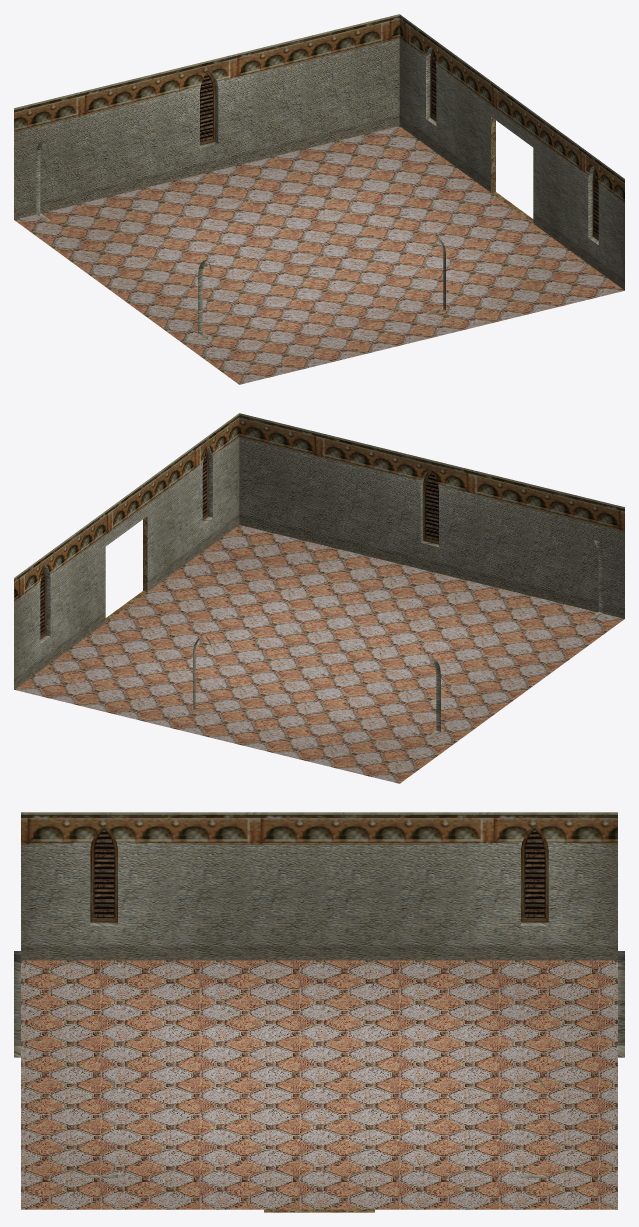
The model's file is Mission8_VillageBuilding03Int.glb.
The picture shows the model from 3 angles, top to bottom: view 1: azimuth 30°, elevation 25°; view 2: azimuth 150°, elevation 25°; view 3: azimuth 270°, elevation 25°; orthographic projection. The views are drawn at different scales.
Parts seen in each view (by area): view 1: MISSION8_VILLAGEBUILDING03INT; view 2: MISSION8_VILLAGEBUILDING03INT; view 3: MISSION8_VILLAGEBUILDING03INT.
Boxes of the visible parts, x1=… form: MISSION8_VILLAGEBUILDING03INT: x1=14, y1=14, x2=624, y2=384; MISSION8_VILLAGEBUILDING03INT: x1=14, y1=413, x2=624, y2=783; MISSION8_VILLAGEBUILDING03INT: x1=14, y1=812, x2=624, y2=1212.
Size of the model in its own units: 10.88 by 2.94 by 11.
7 materials, 7 textured.
